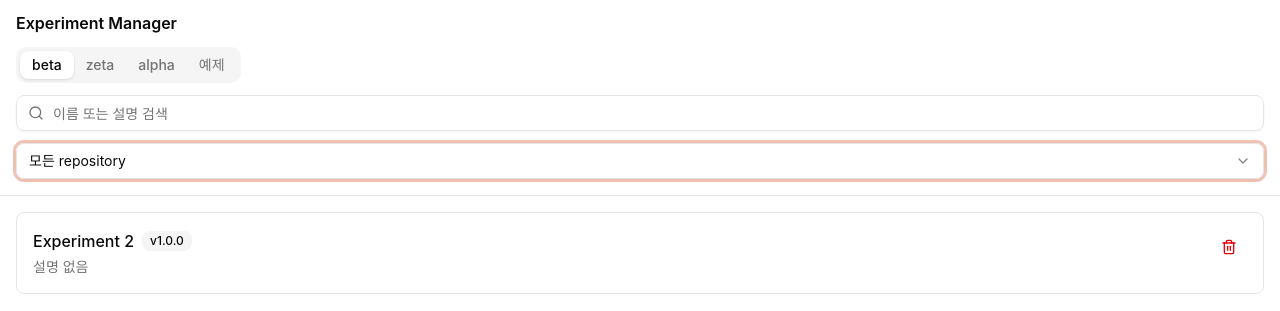
it: keeps repository selection per namespace and supports arrow-key navigation
Expected: the text "Experiment 2" is shown, [33,229,134,253]
Press Enter
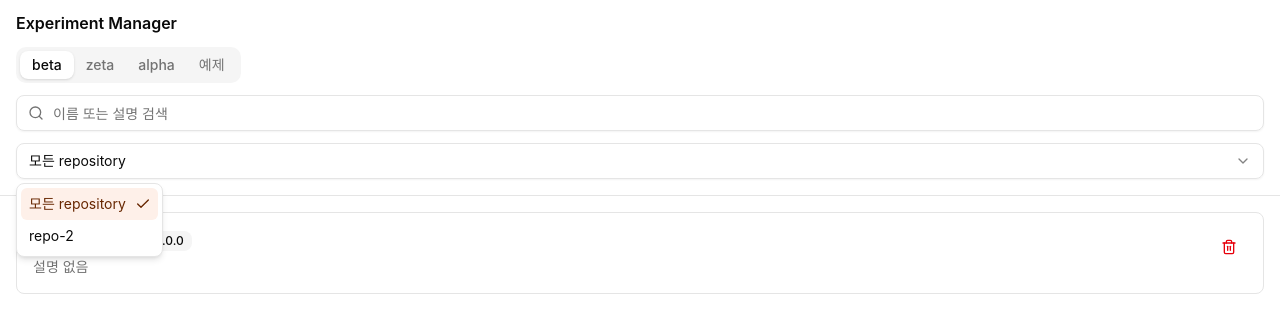
Click the option "repo-2": [51, 236] box [29,227,74,244]
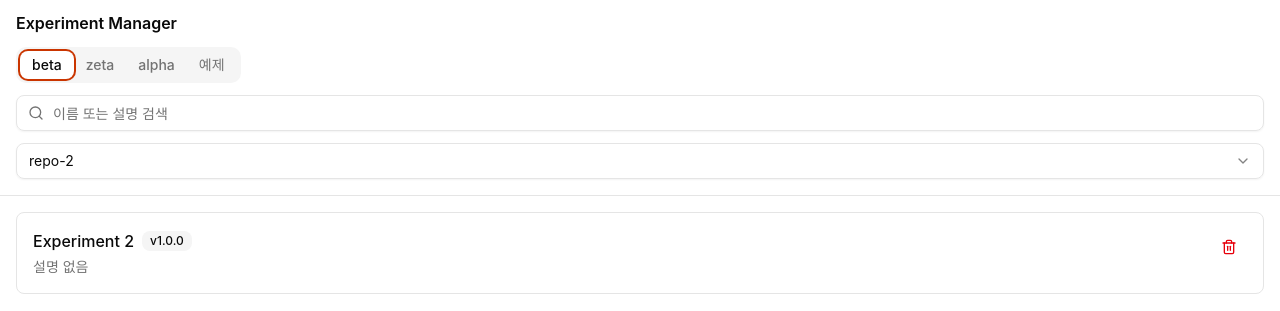
Expected: the dropdown reads "repo-2", [16,143,1264,179]
Press Arrowright
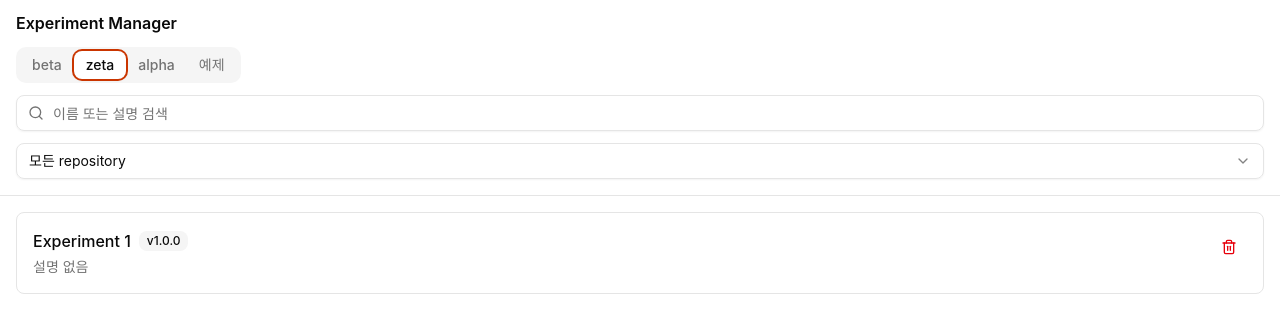
Expected: the dropdown reads "모든 repository", [16,143,1264,179]
Press Arrowleft
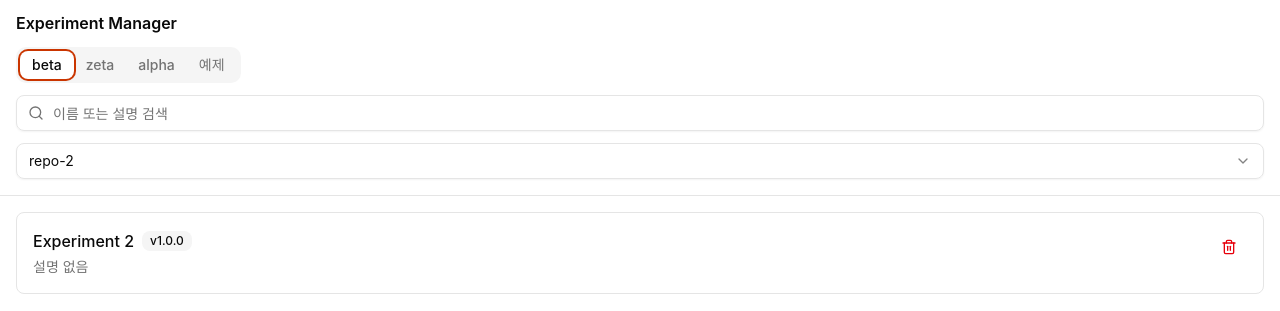
Expected: the dropdown reads "repo-2", [16,143,1264,179]
